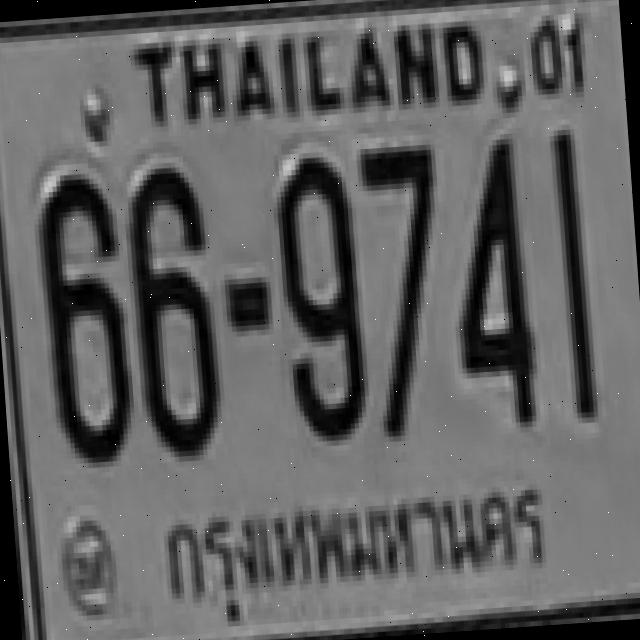0: (274, 150, 356, 333)
4: (442, 132, 536, 426)
6: (124, 163, 222, 456), (34, 169, 132, 462)
7: (355, 138, 448, 410), (355, 139, 444, 354)
9: (272, 152, 366, 440)
Bangkok: (140, 463, 581, 636)
